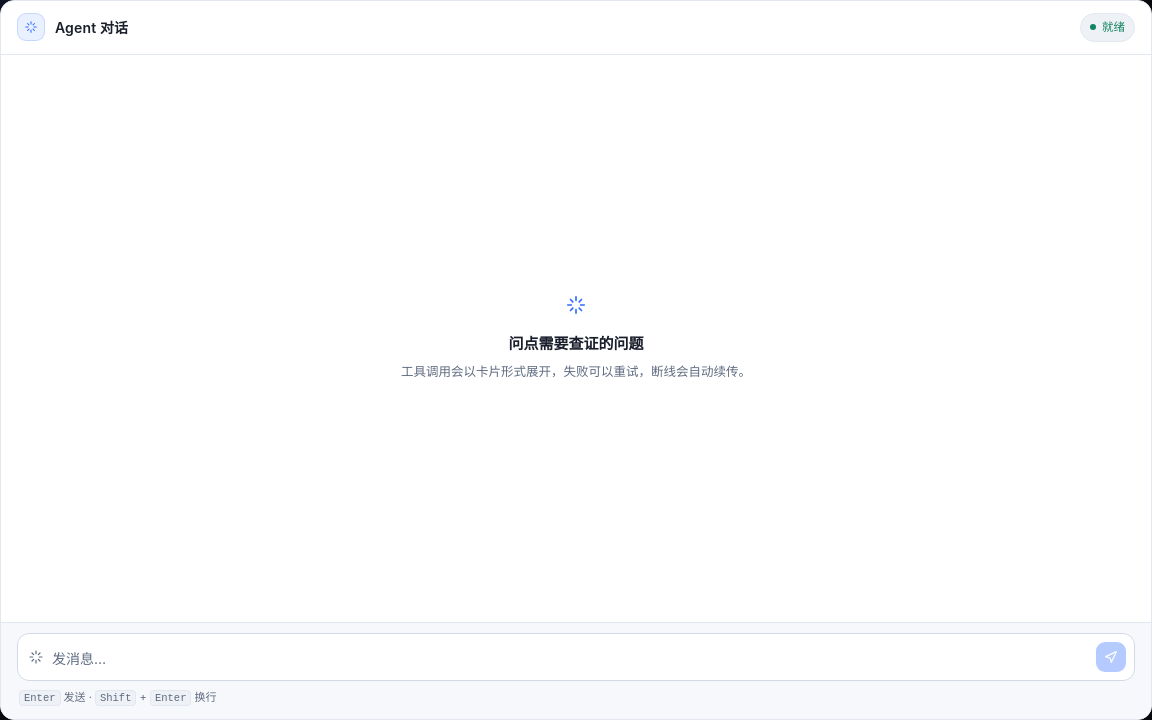
Test: AgentChat › 停止按钮在生成中可用，停止后保留内容并清空 live
The width and height of the screenshot is (1152, 720).
Type "长回答" into the text box named "输入消息" at (570, 659), box [52, 646, 1088, 672]
Then press Enter
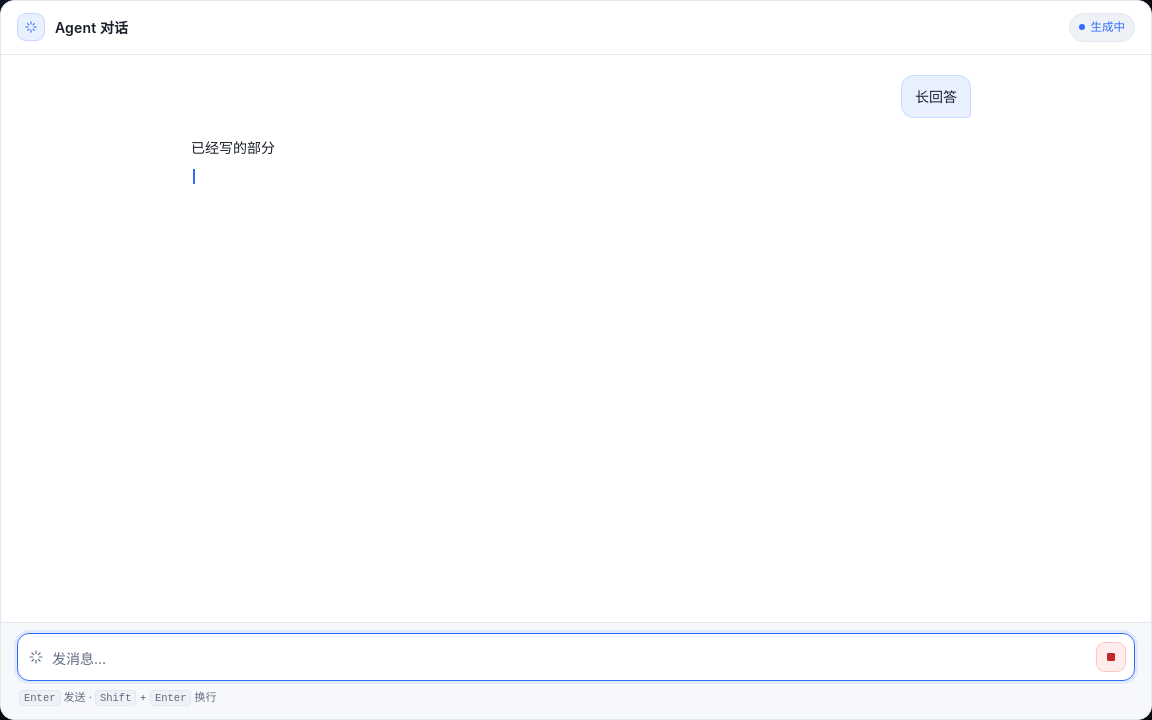
Click the button named "停止生成" at (1111, 657), box [1096, 642, 1126, 672]
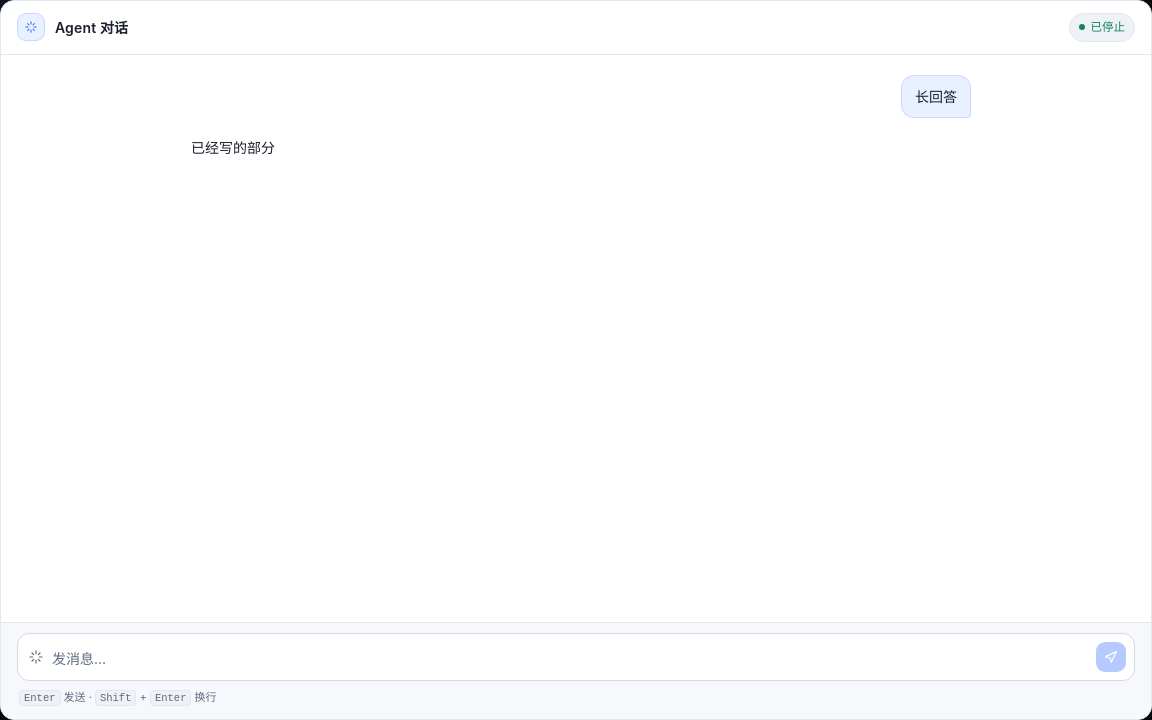
Check: the element with test id "message-assistant" reads "已经写的部分", box [191, 139, 275, 156]
Check: the element with test id "message-live" is gone
